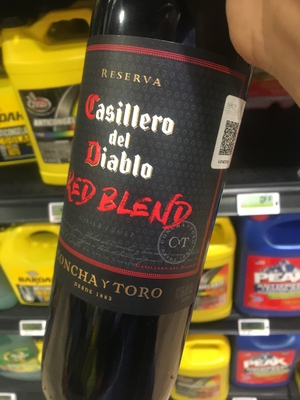casillero del diablo red blend: (51, 23, 253, 400)
